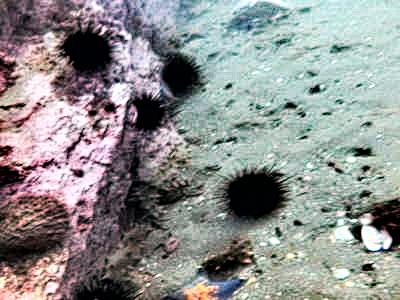urchin: (228, 170, 283, 214), (60, 26, 108, 69), (69, 268, 140, 295), (159, 52, 202, 94), (128, 94, 162, 131)
